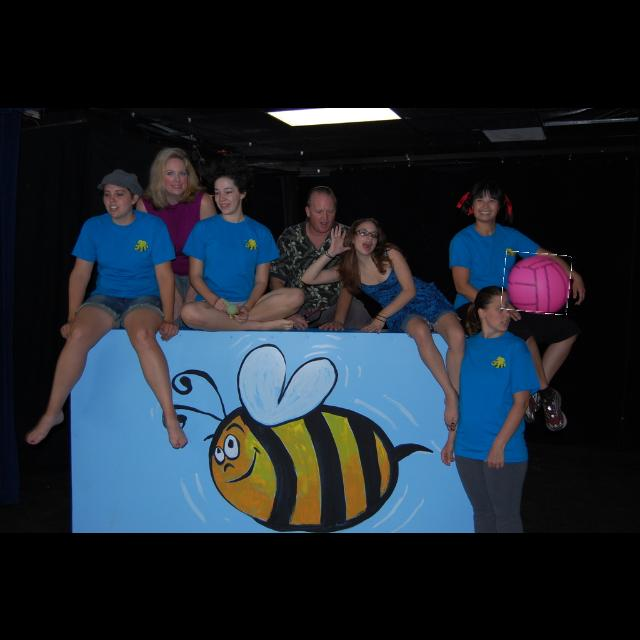Football: (503, 253, 571, 313)
